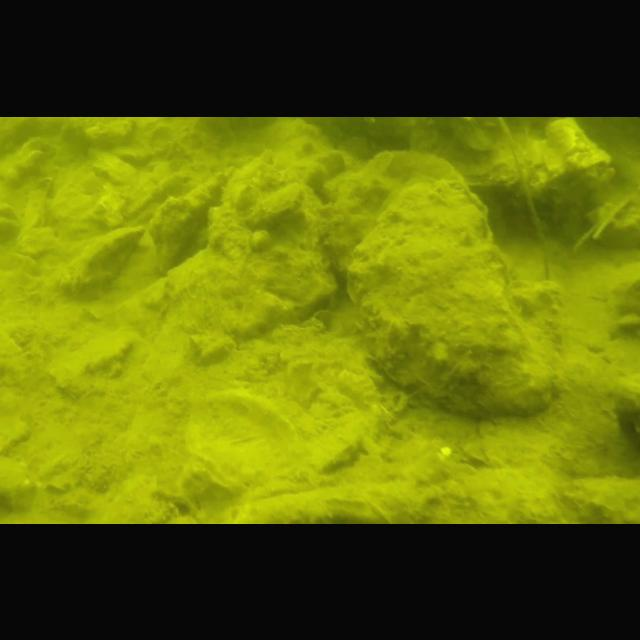Oyster-Closed: (346, 178, 550, 416), (235, 452, 640, 524), (326, 150, 466, 284), (184, 386, 296, 489), (148, 172, 228, 276), (53, 224, 145, 298), (244, 180, 306, 230)
Oyster-Open: (530, 115, 614, 198), (408, 116, 502, 188)
